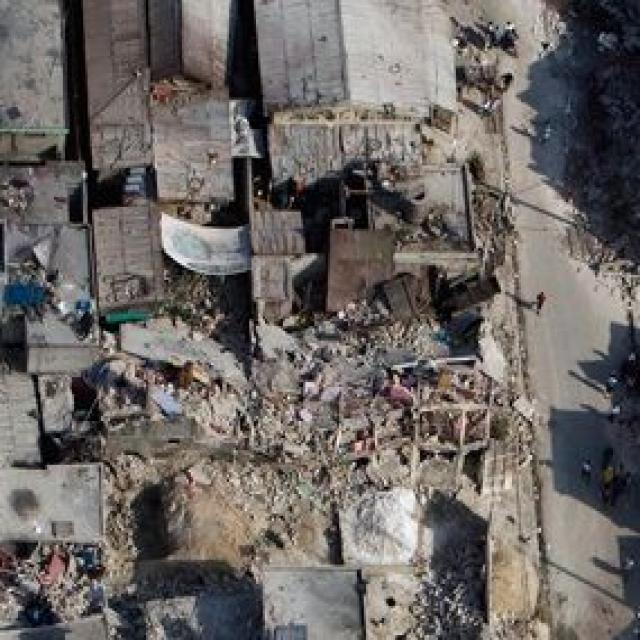collapsed_building: (110, 338, 512, 504), (251, 160, 483, 318)
